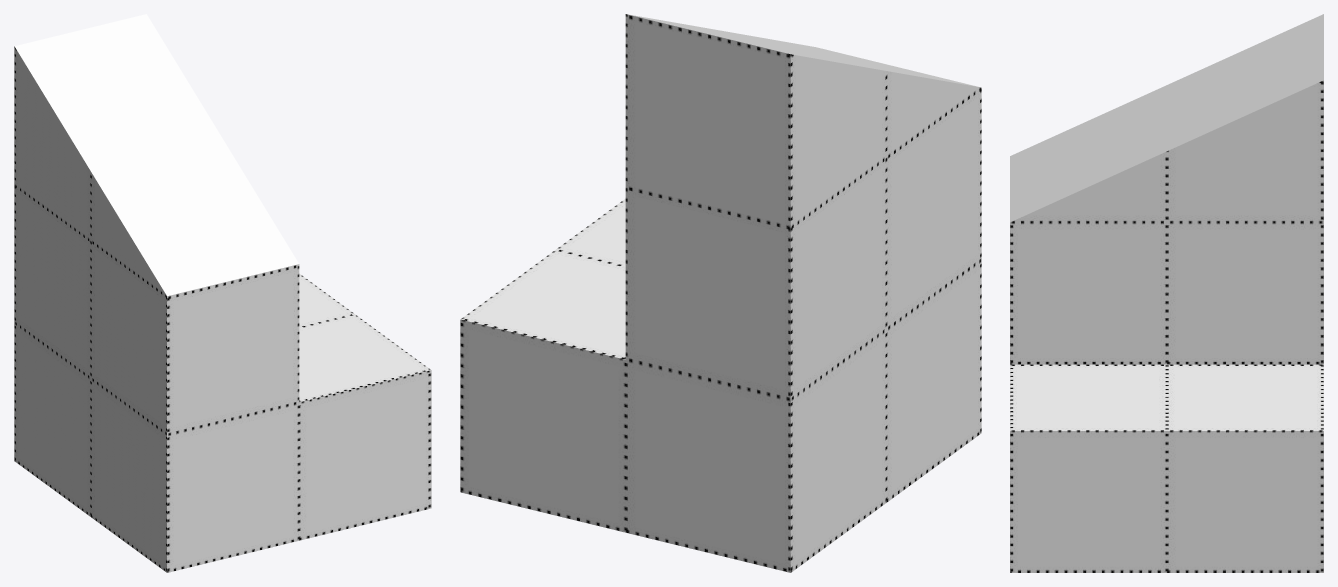
Rendered from fig23.dae.
The picture shows the model from 3 angles, left to right: view 1: azimuth 30°, elevation 25°; view 2: azimuth 150°, elevation 25°; view 3: azimuth 270°, elevation 25°; orthographic projection. The views are drawn at different scales.
Parts seen in each view (by area): view 1: SketchUp (×2); view 2: SketchUp (×2); view 3: SketchUp (×2).
Part boxes in pixels (x1=…): SketchUp (×2): x1=14, y1=14, x2=431, y2=572; SketchUp (×2): x1=460, y1=14, x2=981, y2=572; SketchUp (×2): x1=1010, y1=14, x2=1323, y2=572.
Size of the model in its own units: 0.7874 by 0.7874 by 1.18.
